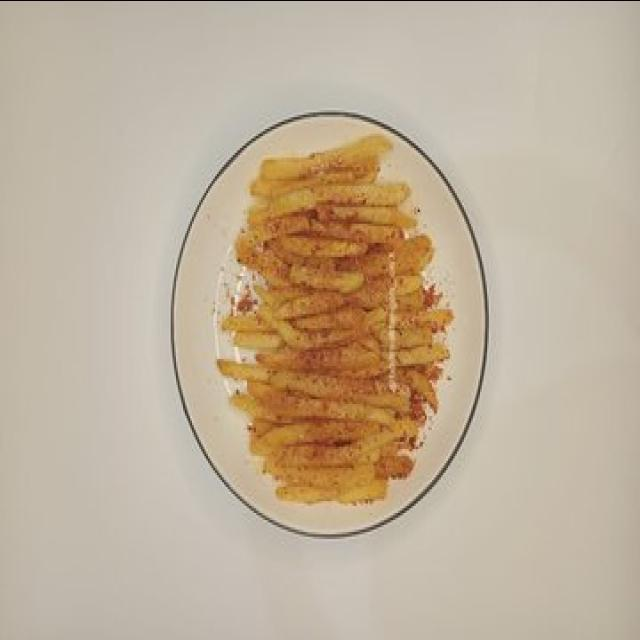kentang goreng: (217, 130, 459, 505)
